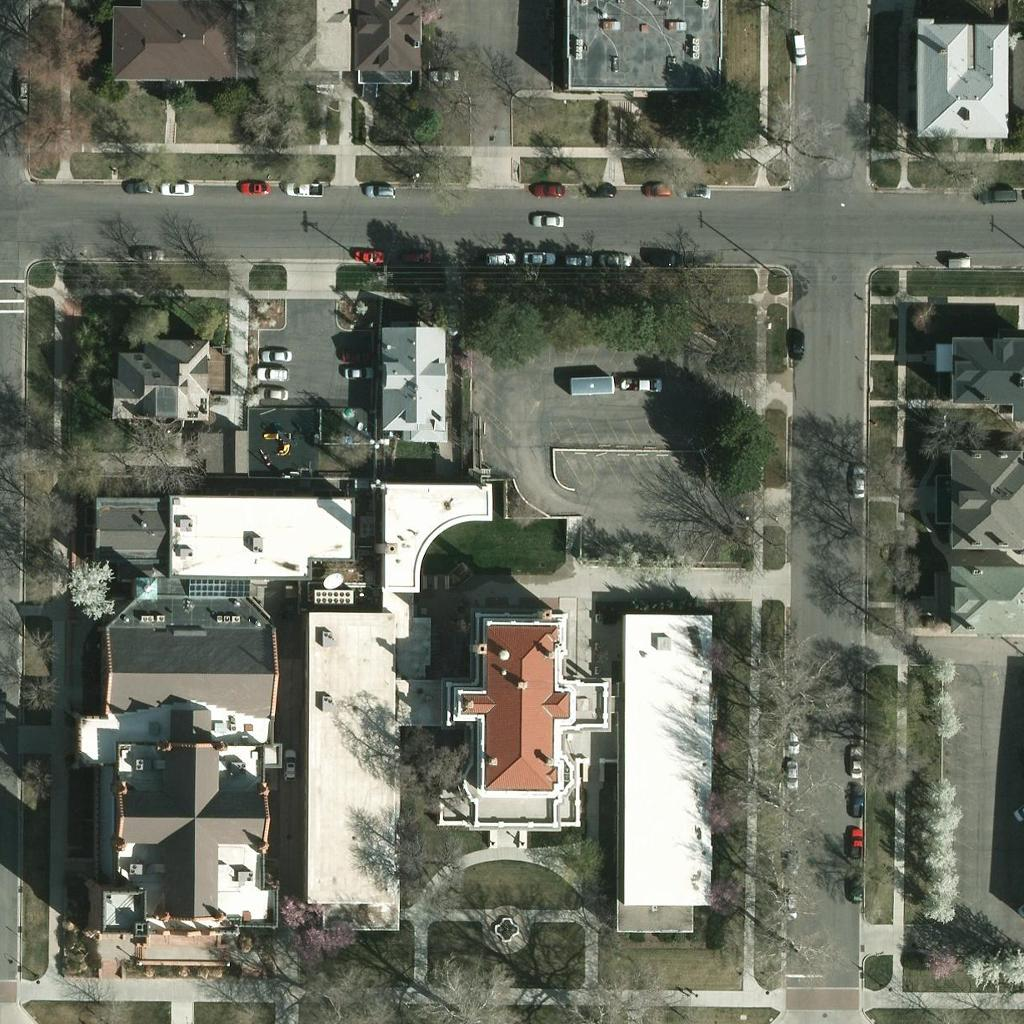car: (785, 33, 819, 67), (428, 58, 462, 92), (5, 68, 39, 102), (125, 168, 159, 202), (160, 170, 194, 204), (239, 170, 273, 204), (533, 171, 567, 205), (583, 171, 617, 205), (643, 171, 677, 205), (287, 172, 321, 206), (673, 172, 707, 206), (367, 173, 401, 207), (983, 177, 1017, 211), (533, 203, 567, 237), (130, 236, 164, 270), (349, 238, 383, 272), (648, 240, 682, 274), (394, 241, 428, 275), (480, 241, 514, 275), (519, 241, 553, 275), (595, 241, 629, 275), (558, 242, 592, 276), (940, 245, 974, 279), (780, 326, 814, 360), (338, 336, 372, 370), (259, 337, 293, 371), (341, 354, 375, 388), (254, 356, 288, 390), (627, 366, 661, 400), (255, 376, 289, 410), (842, 465, 876, 499), (774, 716, 808, 750), (834, 745, 868, 779), (271, 748, 305, 782), (774, 753, 808, 787), (837, 781, 871, 815), (839, 824, 873, 858), (775, 841, 809, 875), (838, 873, 872, 907), (771, 886, 805, 920), (0, 689, 17, 723)
